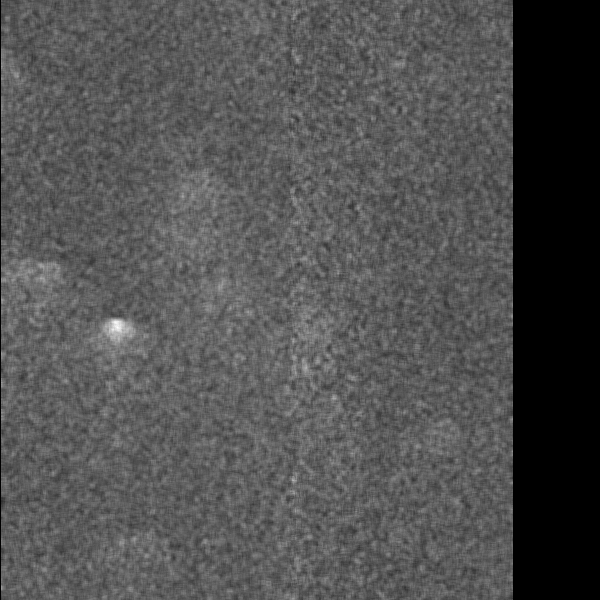spark: (81, 8, 107, 78), (153, 125, 179, 163)
